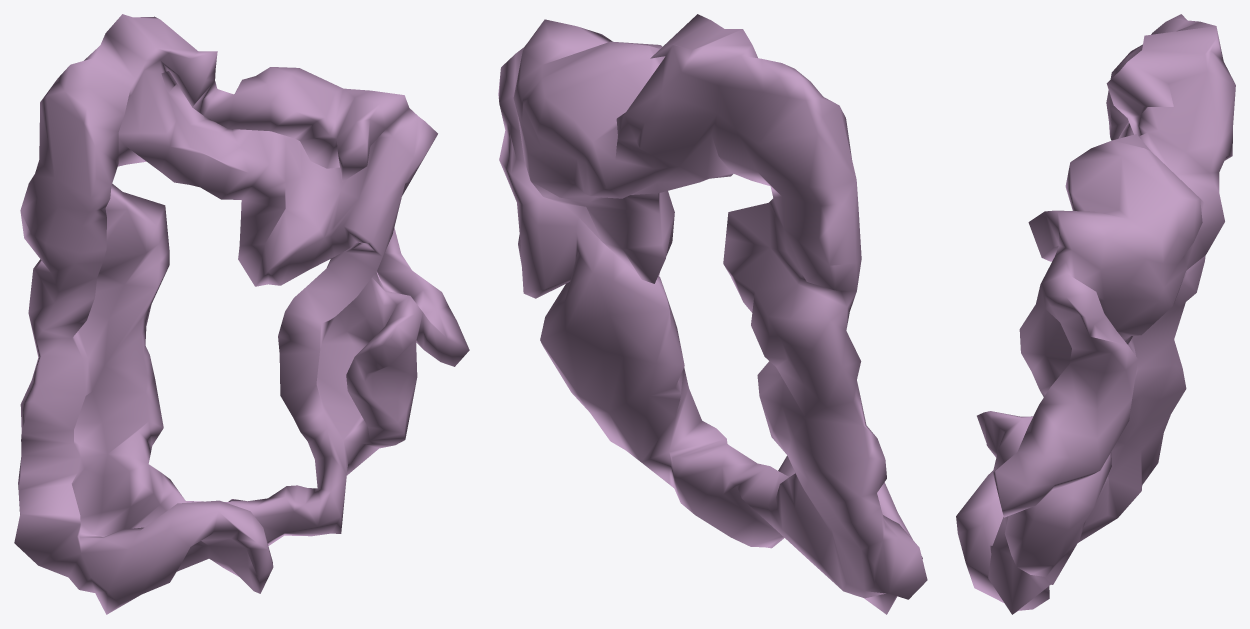
3 views of the same model, side by side, from view 1: azimuth 30°, elevation 25°; view 2: azimuth 150°, elevation 25°; view 3: azimuth 270°, elevation 25° (orthographic). The views are drawn at different scales.
Parts seen in each view (by area): view 1: 左侧眶回; view 2: 左侧眶回; view 3: 左侧眶回.
Boxes of the visible parts, x1,y1,x2,y2 form: 左侧眶回: (14,14,469,614); 左侧眶回: (498,14,927,614); 左侧眶回: (956,14,1235,614).
Bounding box in the file's own units: 0.0718 × 0.0905 × 0.0401.
